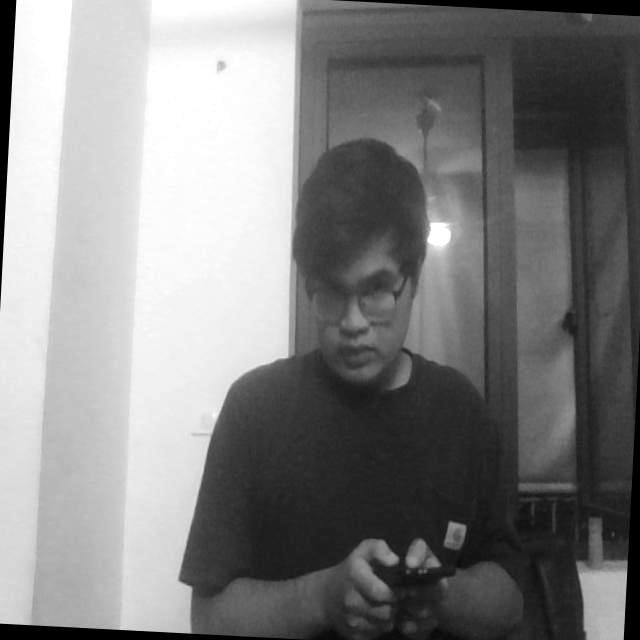phone: (360, 532, 458, 624)
